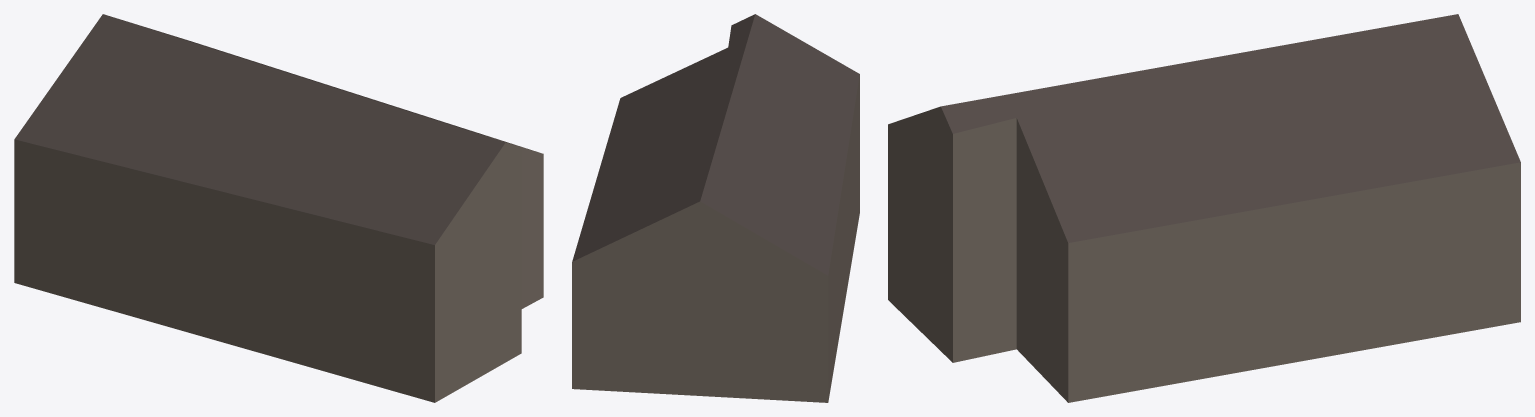
3 views of the same model, side by side, from view 1: azimuth 30°, elevation 25°; view 2: azimuth 150°, elevation 25°; view 3: azimuth 270°, elevation 25° (orthographic). The views are drawn at different scales.
Visible parts, largest first — view 1: HP-w1198847850; view 2: HP-w1198847850; view 3: HP-w1198847850.
Part boxes in pixels (x1,y1,x2,y2): HP-w1198847850: [14, 14, 543, 402]; HP-w1198847850: [572, 14, 859, 402]; HP-w1198847850: [888, 14, 1520, 402].
Bounding box in the file's own units: 16.7 × 9.19 × 21.53.
